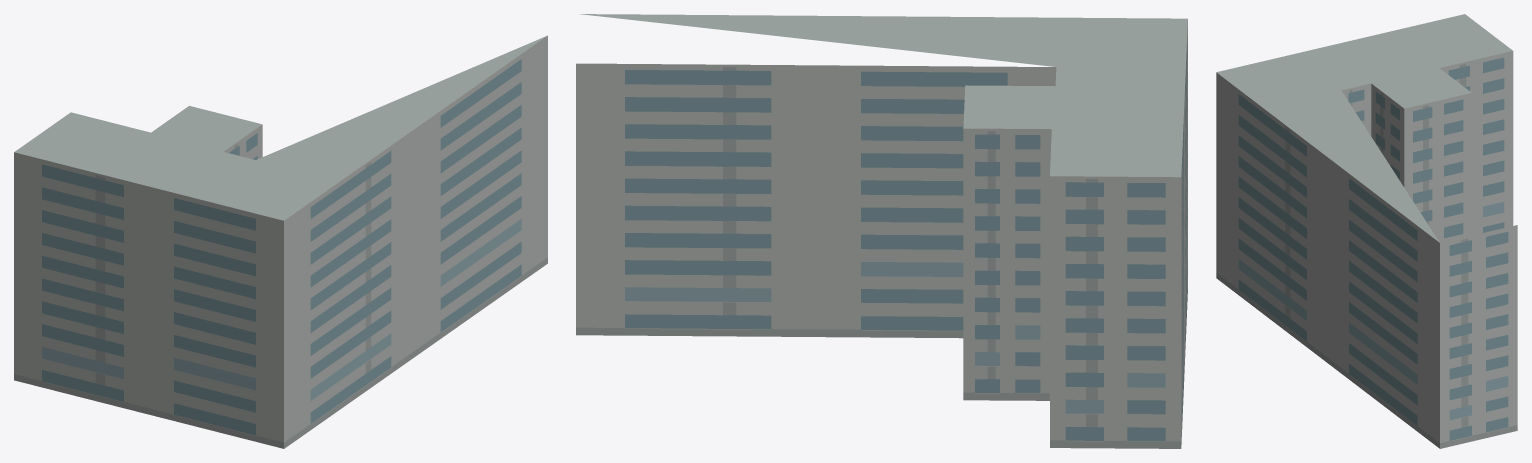
File: residential-e87547ab-0d3e-40f4-beda-de331d09a5ad.glb
The picture shows the model from 3 angles, left to right: view 1: azimuth 30°, elevation 25°; view 2: azimuth 150°, elevation 25°; view 3: azimuth 270°, elevation 25°; orthographic projection. The views are drawn at different scales.
Parts seen in each view (by area): view 1: residential-e87547ab-0d3e-40f4-beda-de331d09a5ad.tmp; view 2: residential-e87547ab-0d3e-40f4-beda-de331d09a5ad.tmp; view 3: residential-e87547ab-0d3e-40f4-beda-de331d09a5ad.tmp.
Boxes of the visible parts, x1,y1,x2,y2 form: residential-e87547ab-0d3e-40f4-beda-de331d09a5ad.tmp: (14,35,547,448); residential-e87547ab-0d3e-40f4-beda-de331d09a5ad.tmp: (576,14,1187,448); residential-e87547ab-0d3e-40f4-beda-de331d09a5ad.tmp: (1216,14,1517,448).
Bounding box in the file's own units: 64.43 × 27 × 35.84.
